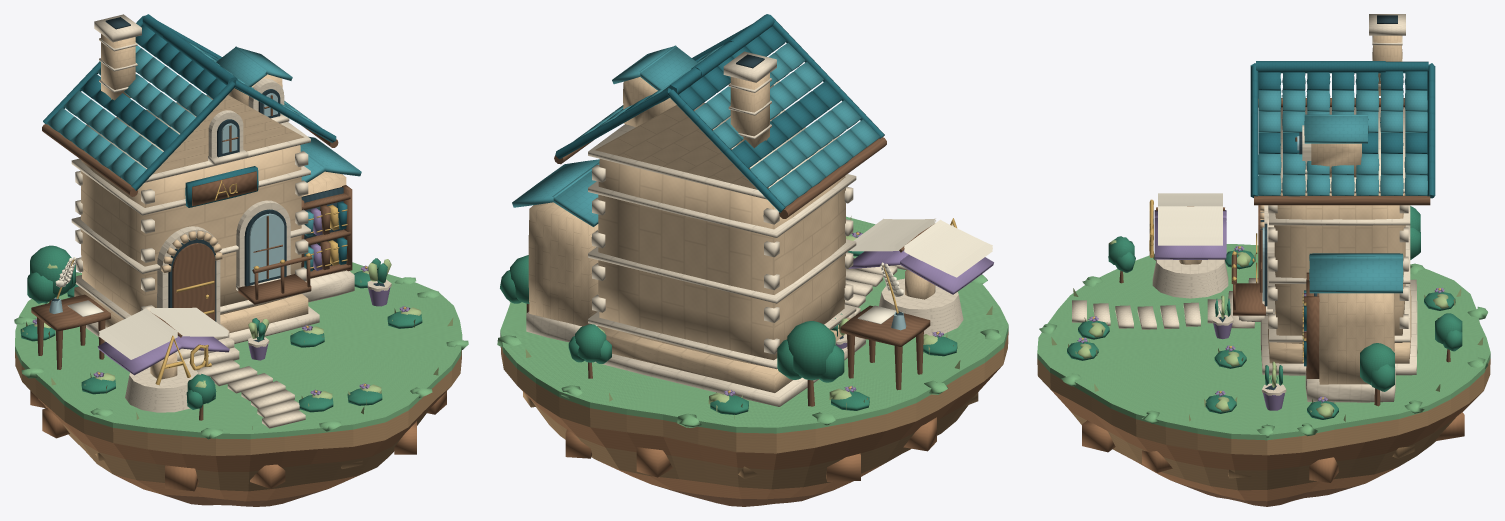
3 views of the same model, side by side, from view 1: azimuth 30°, elevation 25°; view 2: azimuth 150°, elevation 25°; view 3: azimuth 270°, elevation 25° (orthographic). The views are drawn at different scales.
Visible parts, largest first — view 1: language-world_Soft meadow grass and rim moss, language-world_Warm cream library masonry, language-world_Ivory bevelled plinth paths and carved frames, language-world_Sunlit pale cliff shelves, language-world_Individually glazed teal roof panels, language-world_Walnut door planks shelves and quill desk, language-world_Warm weathered sandstone cliff, language-world_Dark teal eaves and ridge caps, language-world_Sculpted jade canopy and garden leaves, language-world_Warm ivory sculpted book paper, language-world_Dusty lavender book covers and blossoms, language-world_Deep door window and shelf recess (+4 smaller); view 2: language-world_Warm cream library masonry, language-world_Soft meadow grass and rim moss, language-world_Ivory bevelled plinth paths and carved frames, language-world_Sunlit pale cliff shelves, language-world_Individually glazed teal roof panels, language-world_Warm weathered sandstone cliff, language-world_Dark teal eaves and ridge caps, language-world_Sculpted jade canopy and garden leaves, language-world_Warm ivory sculpted book paper, language-world_Walnut door planks shelves and quill desk, language-world_Dusty lavender book covers and blossoms, language-world_Sunlit sage leaf tips (+1 smaller); view 3: language-world_Soft meadow grass and rim moss, language-world_Individually glazed teal roof panels, language-world_Warm cream library masonry, language-world_Ivory bevelled plinth paths and carved frames, language-world_Sunlit pale cliff shelves, language-world_Warm weathered sandstone cliff, language-world_Dark teal eaves and ridge caps, language-world_Sculpted jade canopy and garden leaves, language-world_Walnut door planks shelves and quill desk, language-world_Warm ivory sculpted book paper, language-world_Dusty lavender book covers and blossoms, language-world_Sunlit sage leaf tips (+3 smaller).
Part boxes in pixels (box(x1,y1,x2,y2)): language-world_Soft meadow grass and rim moss: box(14, 262, 468, 439); language-world_Warm cream library masonry: box(74, 34, 346, 379); language-world_Ivory bevelled plinth paths and carved frames: box(71, 14, 391, 428); language-world_Sunlit pale cliff shelves: box(15, 350, 461, 491); language-world_Individually glazed teal roof panels: box(47, 41, 361, 271); language-world_Walnut door planks shelves and quill desk: box(31, 95, 352, 420); language-world_Warm weathered sandstone cliff: box(30, 387, 450, 501); language-world_Dark teal eaves and ridge caps: box(43, 14, 347, 264); language-world_Sculpted jade canopy and garden leaves: box(20, 245, 422, 412); language-world_Warm ivory sculpted book paper: box(55, 257, 228, 359); language-world_Dusty lavender book covers and blossoms: box(32, 208, 410, 395); language-world_Deep door window and shelf recess: box(52, 17, 384, 342); language-world_Warm cream library masonry: box(528, 73, 935, 392); language-world_Soft meadow grass and rim moss: box(497, 216, 1008, 433); language-world_Ivory bevelled plinth paths and carved frames: box(526, 51, 963, 406); language-world_Sunlit pale cliff shelves: box(500, 331, 1008, 489); language-world_Individually glazed teal roof panels: box(512, 43, 879, 226); language-world_Warm weathered sandstone cliff: box(519, 365, 1002, 499); language-world_Dark teal eaves and ridge caps: box(555, 14, 884, 212); language-world_Sculpted jade canopy and garden leaves: box(500, 237, 957, 414); language-world_Warm ivory sculpted book paper: box(849, 218, 992, 324); language-world_Walnut door planks shelves and quill desk: box(526, 137, 933, 406); language-world_Dusty lavender book covers and blossoms: box(723, 231, 993, 396); language-world_Sunlit sage leaf tips: box(509, 216, 992, 418); language-world_Soft meadow grass and rim moss: box(1037, 244, 1490, 440); language-world_Individually glazed teal roof panels: box(1258, 73, 1427, 341); language-world_Warm cream library masonry: box(1179, 35, 1411, 384); language-world_Ivory bevelled plinth paths and carved frames: box(1072, 14, 1417, 402); language-world_Sunlit pale cliff shelves: box(1037, 358, 1490, 490); language-world_Warm weathered sandstone cliff: box(1051, 390, 1483, 501); language-world_Dark teal eaves and ridge caps: box(1250, 61, 1435, 366); language-world_Sculpted jade canopy and garden leaves: box(1067, 206, 1462, 419); language-world_Walnut door planks shelves and quill desk: box(1119, 98, 1450, 406); language-world_Warm ivory sculpted book paper: box(1158, 193, 1222, 245); language-world_Dusty lavender book covers and blossoms: box(1077, 210, 1444, 410); language-world_Sunlit sage leaf tips: box(1051, 239, 1483, 421).
Size of the model in its own units: 4.12 by 4.37 by 4.08.
16 materials, 16 textured.
